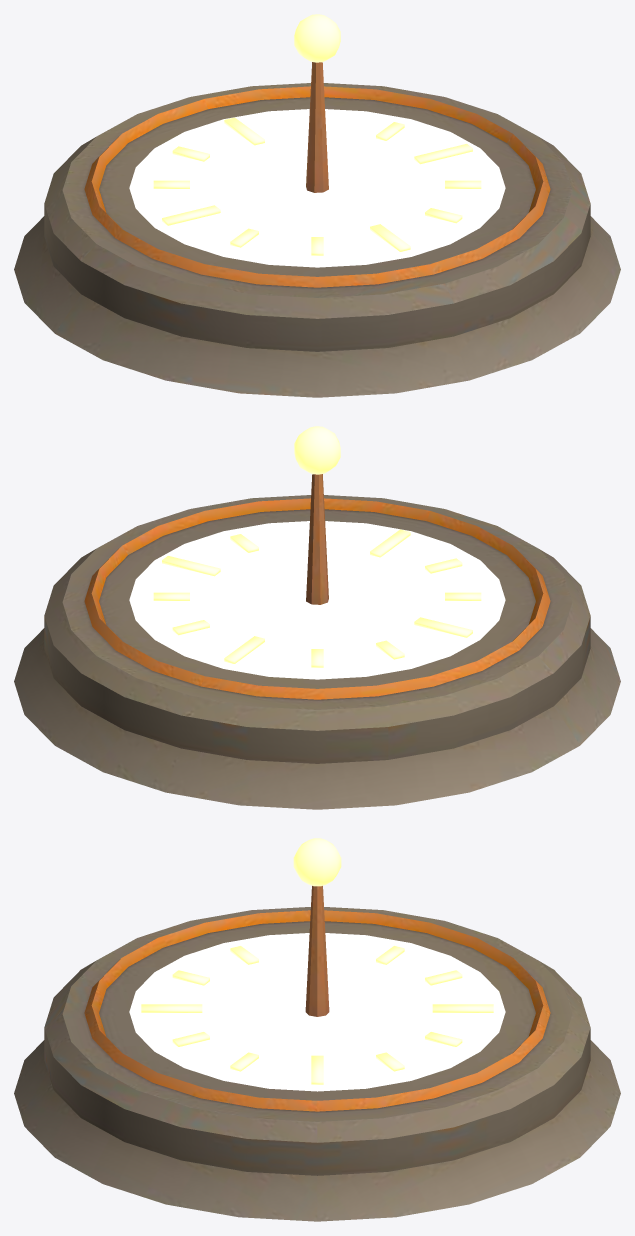
Rendered from time_dial.glb.
The picture shows the model from 3 angles, top to bottom: view 1: azimuth 30°, elevation 25°; view 2: azimuth 150°, elevation 25°; view 3: azimuth 270°, elevation 25°; orthographic projection.
Visible parts, largest first — view 1: main, glow; view 2: main, glow; view 3: main, glow.
Boxes of the visible parts, x1=… form: main: x1=14, y1=62, x2=620, y2=397; glow: x1=129, y1=14, x2=505, y2=267; main: x1=14, y1=474, x2=620, y2=809; glow: x1=129, y1=426, x2=505, y2=679; main: x1=14, y1=886, x2=620, y2=1221; glow: x1=129, y1=838, x2=505, y2=1091.
Bounding box in the file's own units: 5 × 2.3 × 5.
3 materials, 1 textured.
